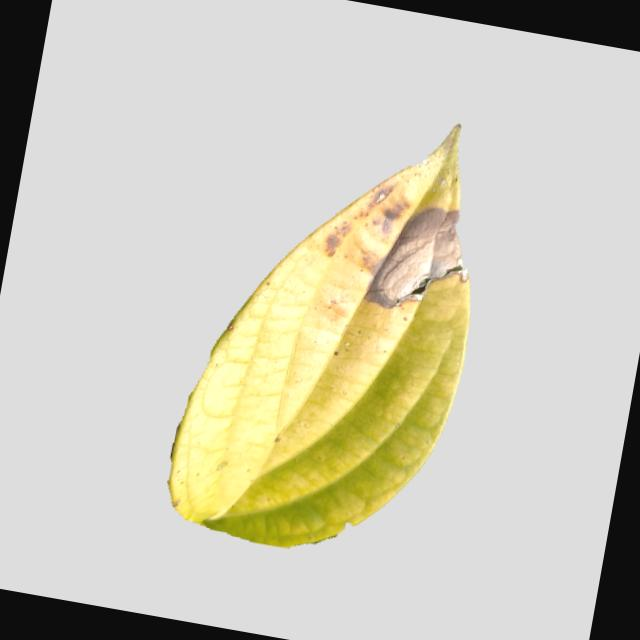leaf-blight: (151, 82, 522, 573)
